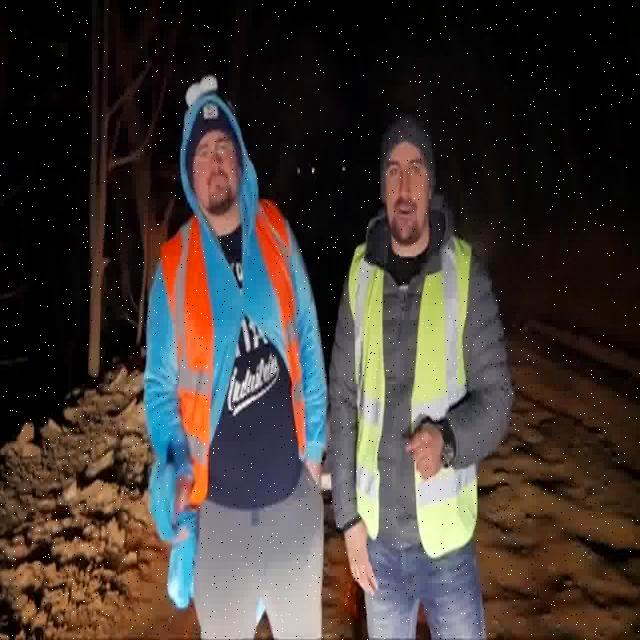Vest: (352, 242, 479, 554), (163, 213, 312, 477)
